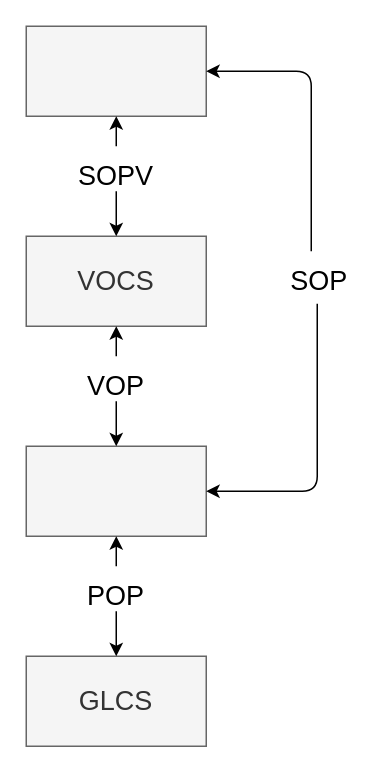
This 383x773 diagram has some shape labels left out. The shapes that lost their labels are listed below. From the top down, each one's centre as x and y in pixels, then its label:
point 115,70: SOCS
point 115,490: PRCS
